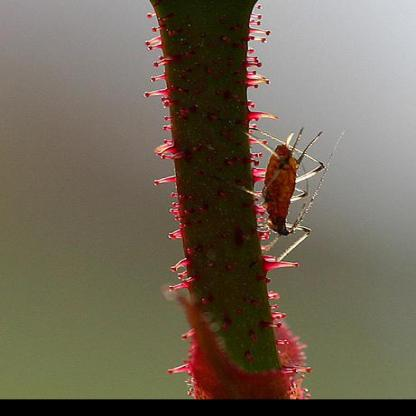aphid: (236, 115, 339, 268)
